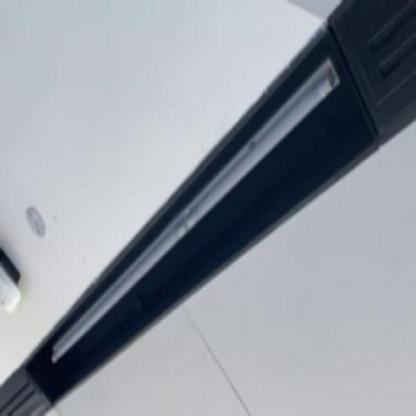light_off: (46, 36, 346, 381)
